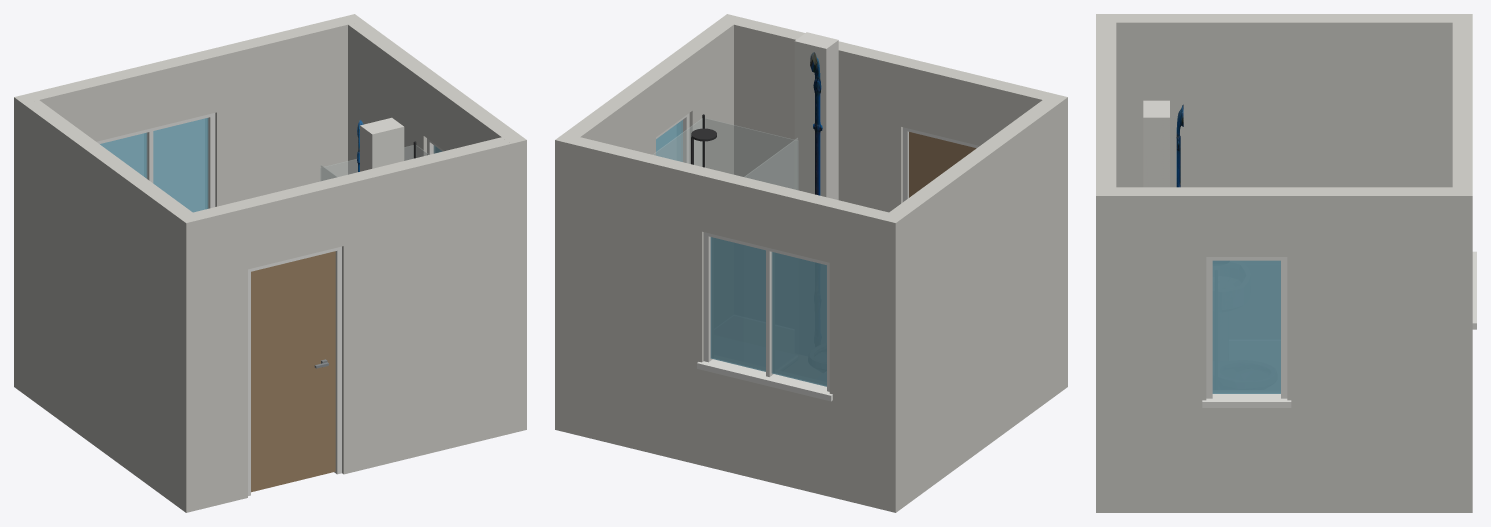
File: layoutgpt.glb
3 views of the same model, side by side, from view 1: azimuth 30°, elevation 25°; view 2: azimuth 150°, elevation 25°; view 3: azimuth 270°, elevation 25° (orthographic). The views are drawn at different scales.
Parts seen in each view (by area): view 1: wall|scenesmith_075__R00|0, wall|scenesmith_075__R00|2, wall|scenesmith_075__R00|1, wall|scenesmith_075__R00|0 Door 0 | wood leaf, wall|scenesmith_075__R00|3, wall|scenesmith_075__R00|1 Window 0 | glazing, wall|scenesmith_075__R00|0 Door 0 | jamb, scenesmith_075__R00_5 | structural enclosure, wall|scenesmith_075__R00|1 Window 0 | jamb, Rear glass; view 2: wall|scenesmith_075__R00|1, wall|scenesmith_075__R00|2, wall|scenesmith_075__R00|0, wall|scenesmith_075__R00|3, wall|scenesmith_075__R00|1 Window 0 | glazing, scenesmith_075__R00_5 | structural enclosure, Rear glass, wall|scenesmith_075__R00|1 Window 0 | jamb, wall|scenesmith_075__R00|0 Door 0 | wood leaf, scenesmith_075__R00_4, wall|scenesmith_075__R00|3 Window 0 | glazing, wall|scenesmith_075__R00|0 Door 0 | jamb; view 3: wall|scenesmith_075__R00|3, wall|scenesmith_075__R00|2, wall|scenesmith_075__R00|3 Window 0 | glazing, wall|scenesmith_075__R00|1, wall|scenesmith_075__R00|0, wall|scenesmith_075__R00|3 Window 0 | jamb, scenesmith_075__R00_5 | structural enclosure.
Part boxes in pixels (bbox=[...]): wall|scenesmith_075__R00|0: bbox=[186, 137, 526, 512]; wall|scenesmith_075__R00|2: bbox=[23, 100, 201, 512]; wall|scenesmith_075__R00|1: bbox=[14, 14, 363, 393]; wall|scenesmith_075__R00|0 Door 0 | wood leaf: bbox=[251, 251, 335, 492]; wall|scenesmith_075__R00|3: bbox=[348, 21, 526, 174]; wall|scenesmith_075__R00|1 Window 0 | glazing: bbox=[100, 118, 208, 212]; wall|scenesmith_075__R00|0 Door 0 | jamb: bbox=[248, 246, 341, 495]; scenesmith_075__R00_5 | structural enclosure: bbox=[360, 117, 404, 171]; wall|scenesmith_075__R00|1 Window 0 | jamb: bbox=[96, 113, 215, 208]; Rear glass: bbox=[320, 145, 428, 181]; wall|scenesmith_075__R00|1: bbox=[555, 133, 904, 512]; wall|scenesmith_075__R00|2: bbox=[880, 93, 1067, 512]; wall|scenesmith_075__R00|0: bbox=[734, 18, 1067, 389]; wall|scenesmith_075__R00|3: bbox=[555, 14, 742, 433]; wall|scenesmith_075__R00|1 Window 0 | glazing: bbox=[710, 237, 826, 386]; scenesmith_075__R00_5 | structural enclosure: bbox=[794, 32, 838, 199]; Rear glass: bbox=[653, 118, 798, 190]; wall|scenesmith_075__R00|1 Window 0 | jamb: bbox=[697, 232, 832, 401]; wall|scenesmith_075__R00|0 Door 0 | wood leaf: bbox=[909, 132, 976, 197]; scenesmith_075__R00_4: bbox=[810, 52, 822, 195]; wall|scenesmith_075__R00|3 Window 0 | glazing: bbox=[656, 120, 682, 161]; wall|scenesmith_075__R00|0 Door 0 | jamb: bbox=[903, 127, 979, 201]; wall|scenesmith_075__R00|3: bbox=[1096, 187, 1472, 512]; wall|scenesmith_075__R00|2: bbox=[1096, 14, 1452, 187]; wall|scenesmith_075__R00|3 Window 0 | glazing: bbox=[1212, 260, 1280, 393]; wall|scenesmith_075__R00|1: bbox=[1452, 14, 1472, 195]; wall|scenesmith_075__R00|0: bbox=[1096, 22, 1116, 187]; wall|scenesmith_075__R00|3 Window 0 | jamb: bbox=[1202, 257, 1291, 407]; scenesmith_075__R00_5 | structural enclosure: bbox=[1143, 100, 1169, 187].
Bounding box in the file's own units: 3.23 × 2.81 × 2.83.
14 materials, 3 textured.
